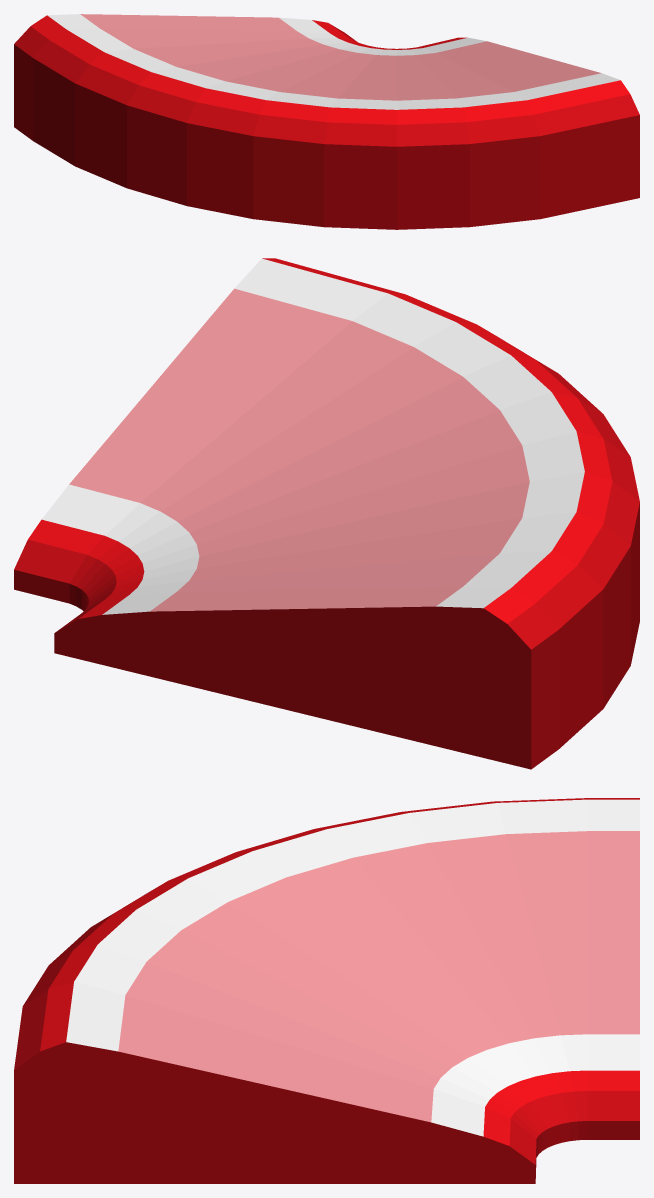
The model's file is bank3.fbx.
The picture shows the model from 3 angles, top to bottom: view 1: azimuth 30°, elevation 25°; view 2: azimuth 150°, elevation 25°; view 3: azimuth 270°, elevation 25°; orthographic projection. The views are drawn at different scales.
Visible parts, largest first — view 1: BankedTurn; view 2: BankedTurn; view 3: BankedTurn.
Boxes of the visible parts, x1,y1,x2,y2 form: BankedTurn: (14, 14, 639, 229); BankedTurn: (14, 258, 639, 769); BankedTurn: (14, 798, 639, 1183).
Size of the model in its own units: 12 by 3 by 12.
